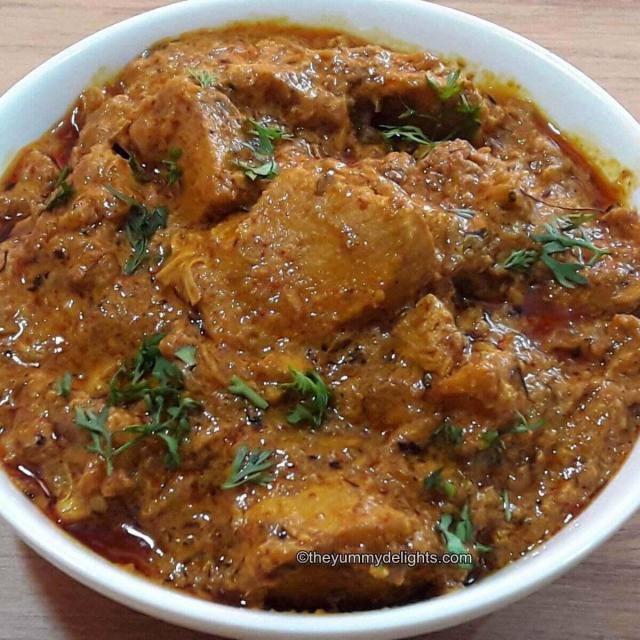chicken: (5, 28, 640, 610)
